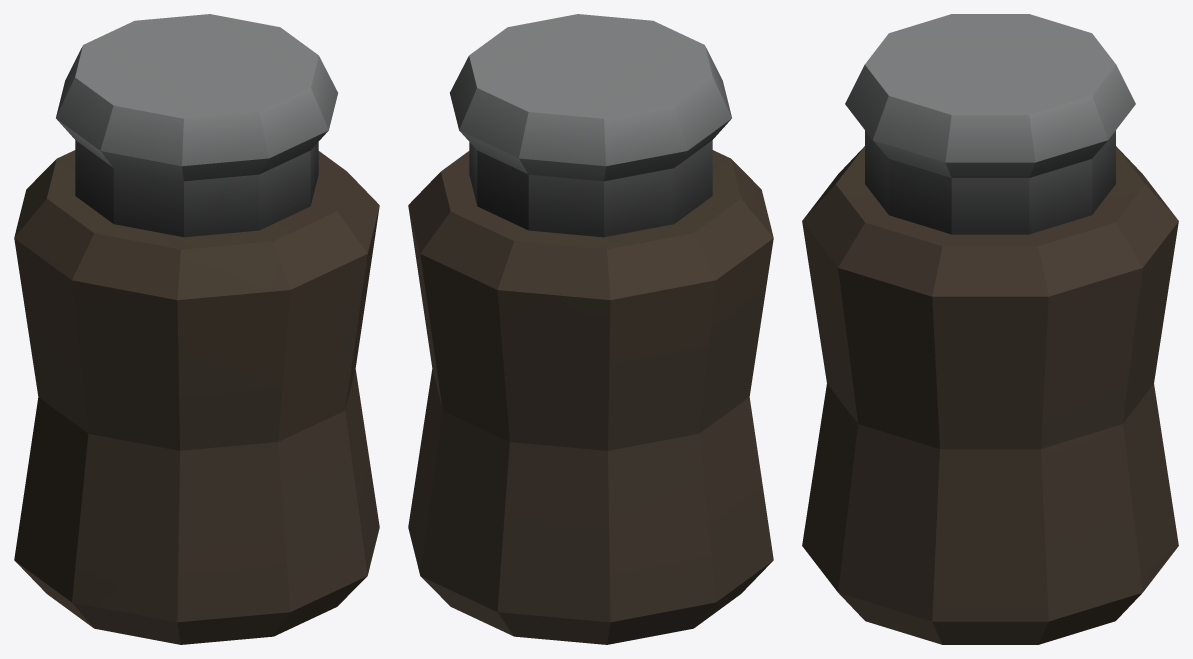
Rendered from SaltShaker.fbx.
The picture shows the model from 3 angles, left to right: view 1: azimuth 30°, elevation 25°; view 2: azimuth 150°, elevation 25°; view 3: azimuth 270°, elevation 25°; orthographic projection.
Parts seen in each view (by area): view 1: SaltShaker; view 2: SaltShaker; view 3: SaltShaker.
Boxes of the visible parts, x1,y1,x2,y2 form: SaltShaker: (14,14,379,644); SaltShaker: (408,14,773,644); SaltShaker: (802,14,1178,644).
Bounding box in the file's own units: 8.34 × 13.3 × 8.77.
